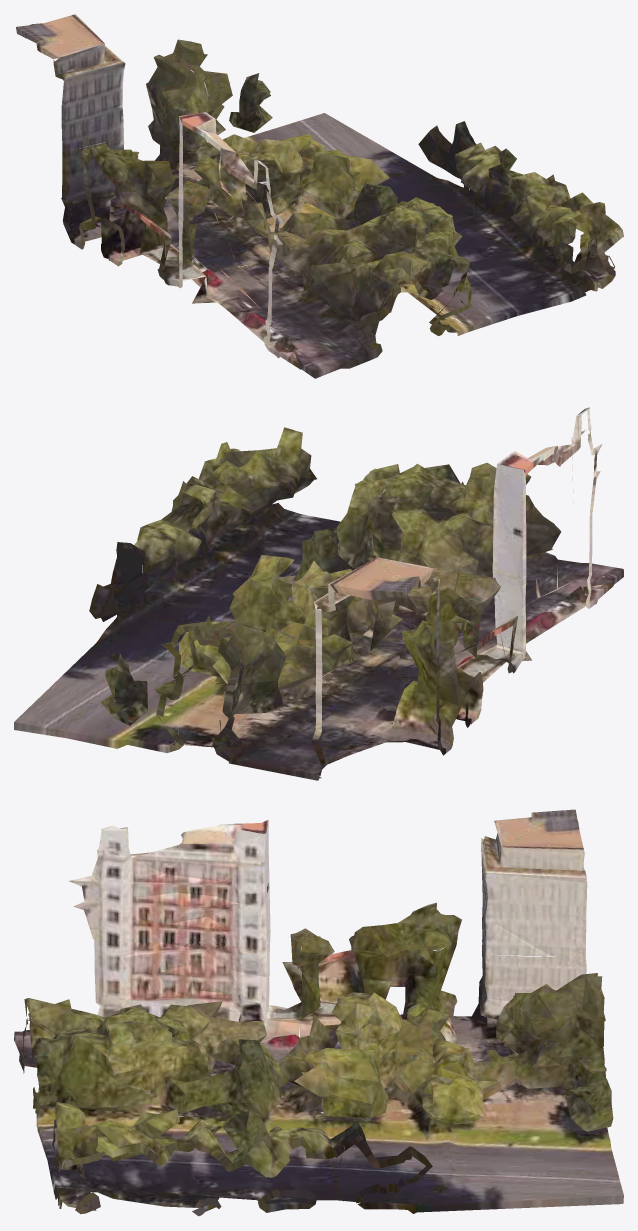
The picture shows the model from 3 angles, top to bottom: view 1: azimuth 30°, elevation 25°; view 2: azimuth 150°, elevation 25°; view 3: azimuth 270°, elevation 25°; orthographic projection. The views are drawn at different scales.
Parts seen in each view (by area): view 1: Mesh_0; view 2: Mesh_0; view 3: Mesh_0.
Boxes of the visible parts, <box> form: Mesh_0: <box>16,14,623,378</box>; Mesh_0: <box>14,407,623,780</box>; Mesh_0: <box>14,809,623,1216</box>.
Size of the model in its own units: 66.9 by 32.81 by 82.42.
Materials: 1 (1 with a texture image).
